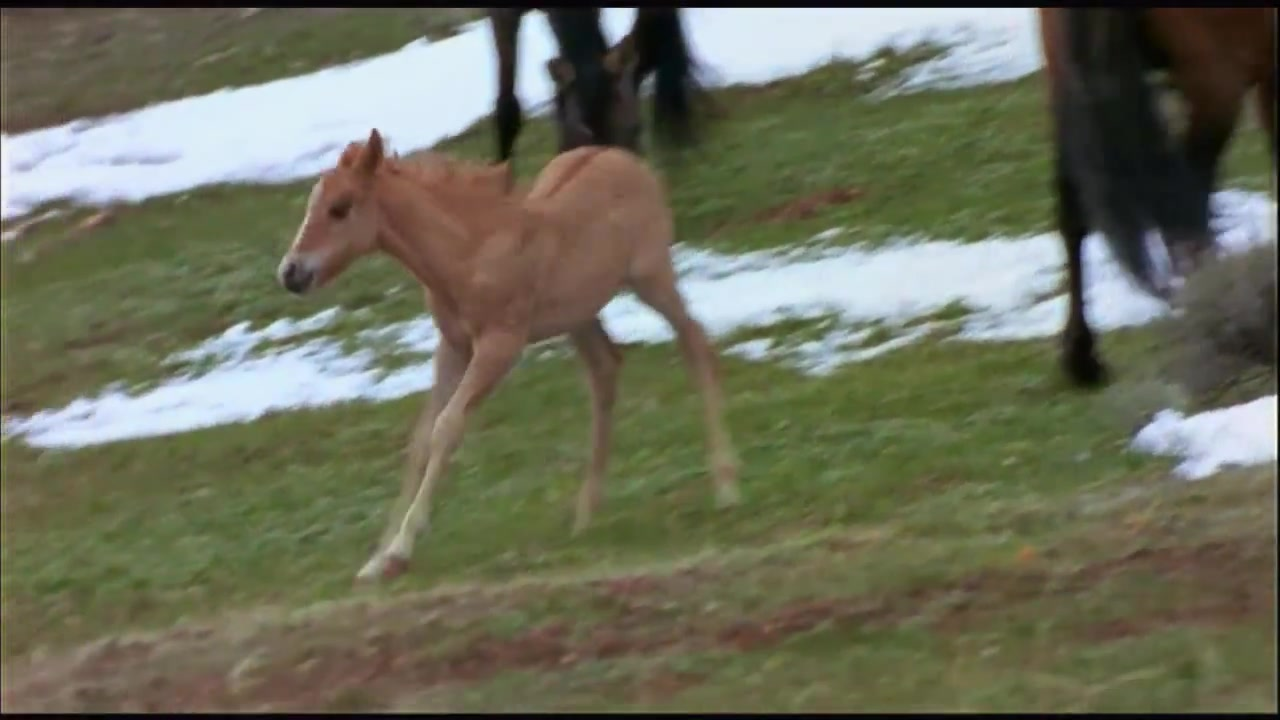horse: (279, 129, 748, 587)
